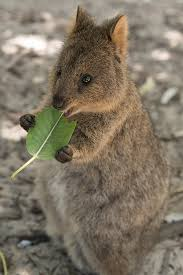quokka: (22, 8, 176, 275)
